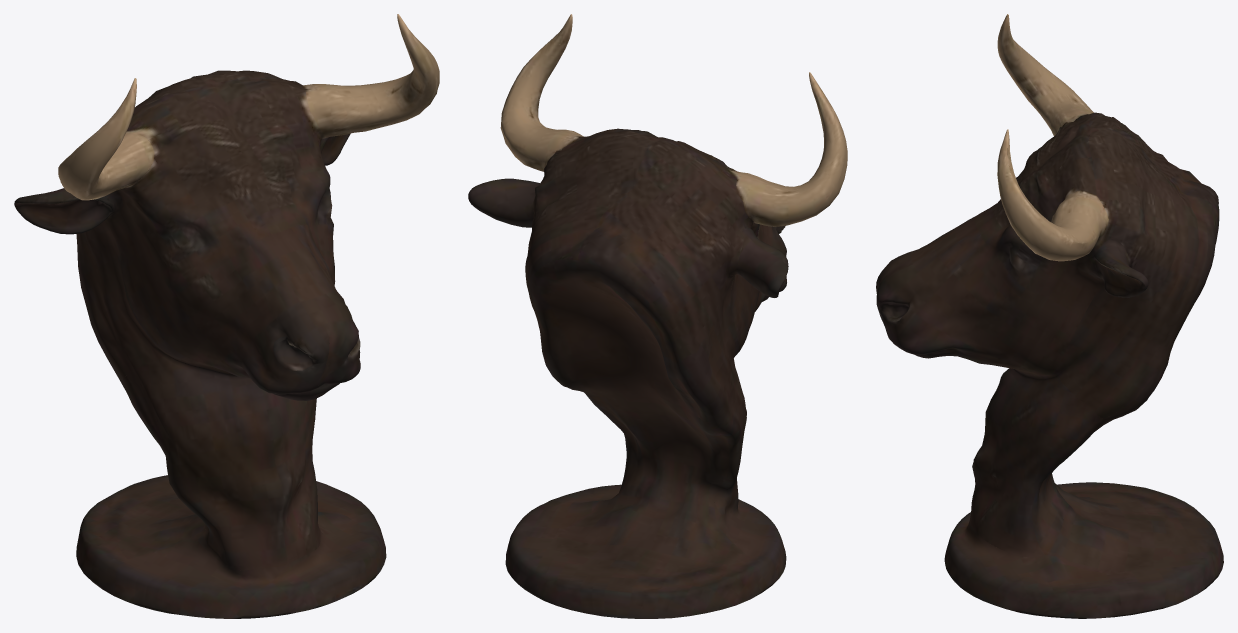
The model's file is ph_bull_head.glb.
3 views of the same model, side by side, from view 1: azimuth 30°, elevation 25°; view 2: azimuth 150°, elevation 25°; view 3: azimuth 270°, elevation 25° (orthographic). The views are drawn at different scales.
Visible parts, largest first — view 1: bull_head; view 2: bull_head; view 3: bull_head.
Part boxes in pixels (<box>): bull_head: <box>14,14,439,618</box>; bull_head: <box>468,14,847,618</box>; bull_head: <box>876,14,1223,618</box>.
Size of the model in its own units: 0.3064 by 0.433 by 0.2808.
Materials: 1 (1 with a texture image).
